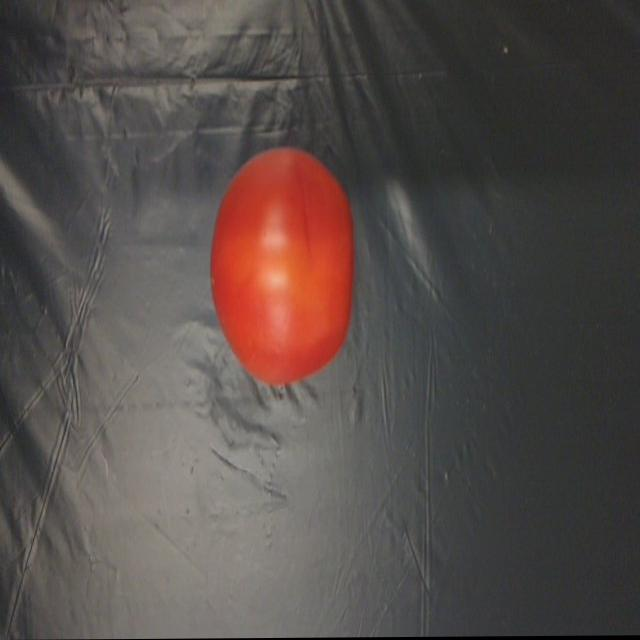kirmizi: (183, 146, 377, 427)
